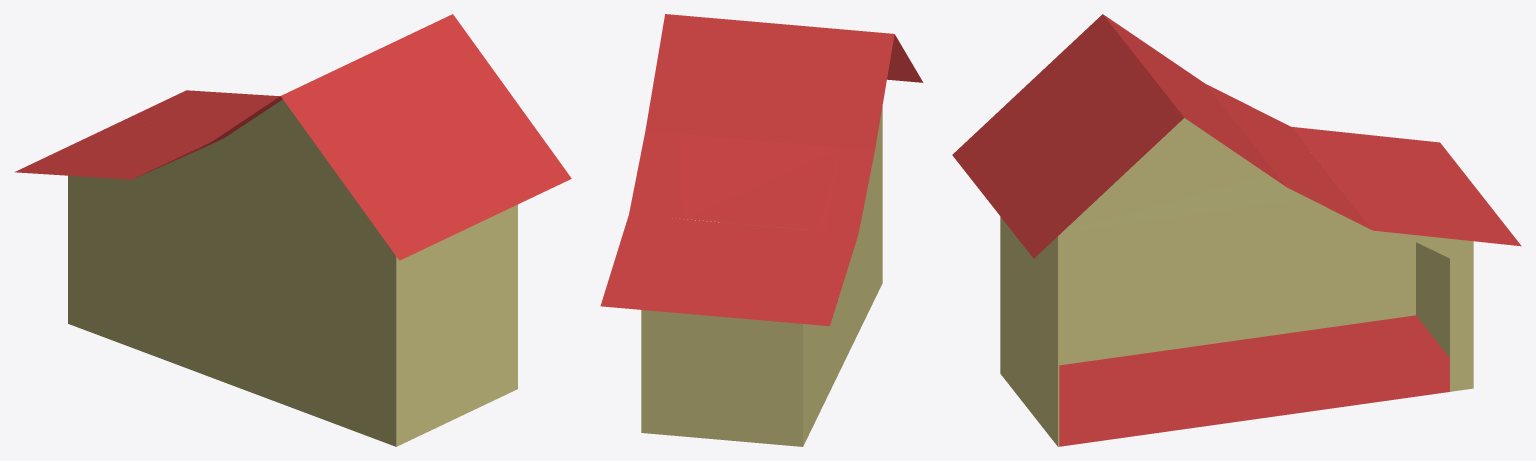
3 renders of one model, left to right at view 1: azimuth 30°, elevation 25°; view 2: azimuth 150°, elevation 25°; view 3: azimuth 270°, elevation 25°, orthographic. The views are drawn at different scales.
Bounding box in the file's own units: 16.04 × 22.41 × 14.25.
